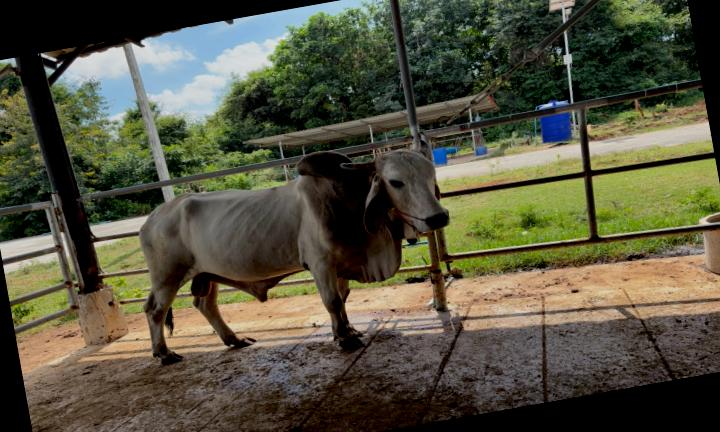Brahman: (139, 142, 449, 364)
